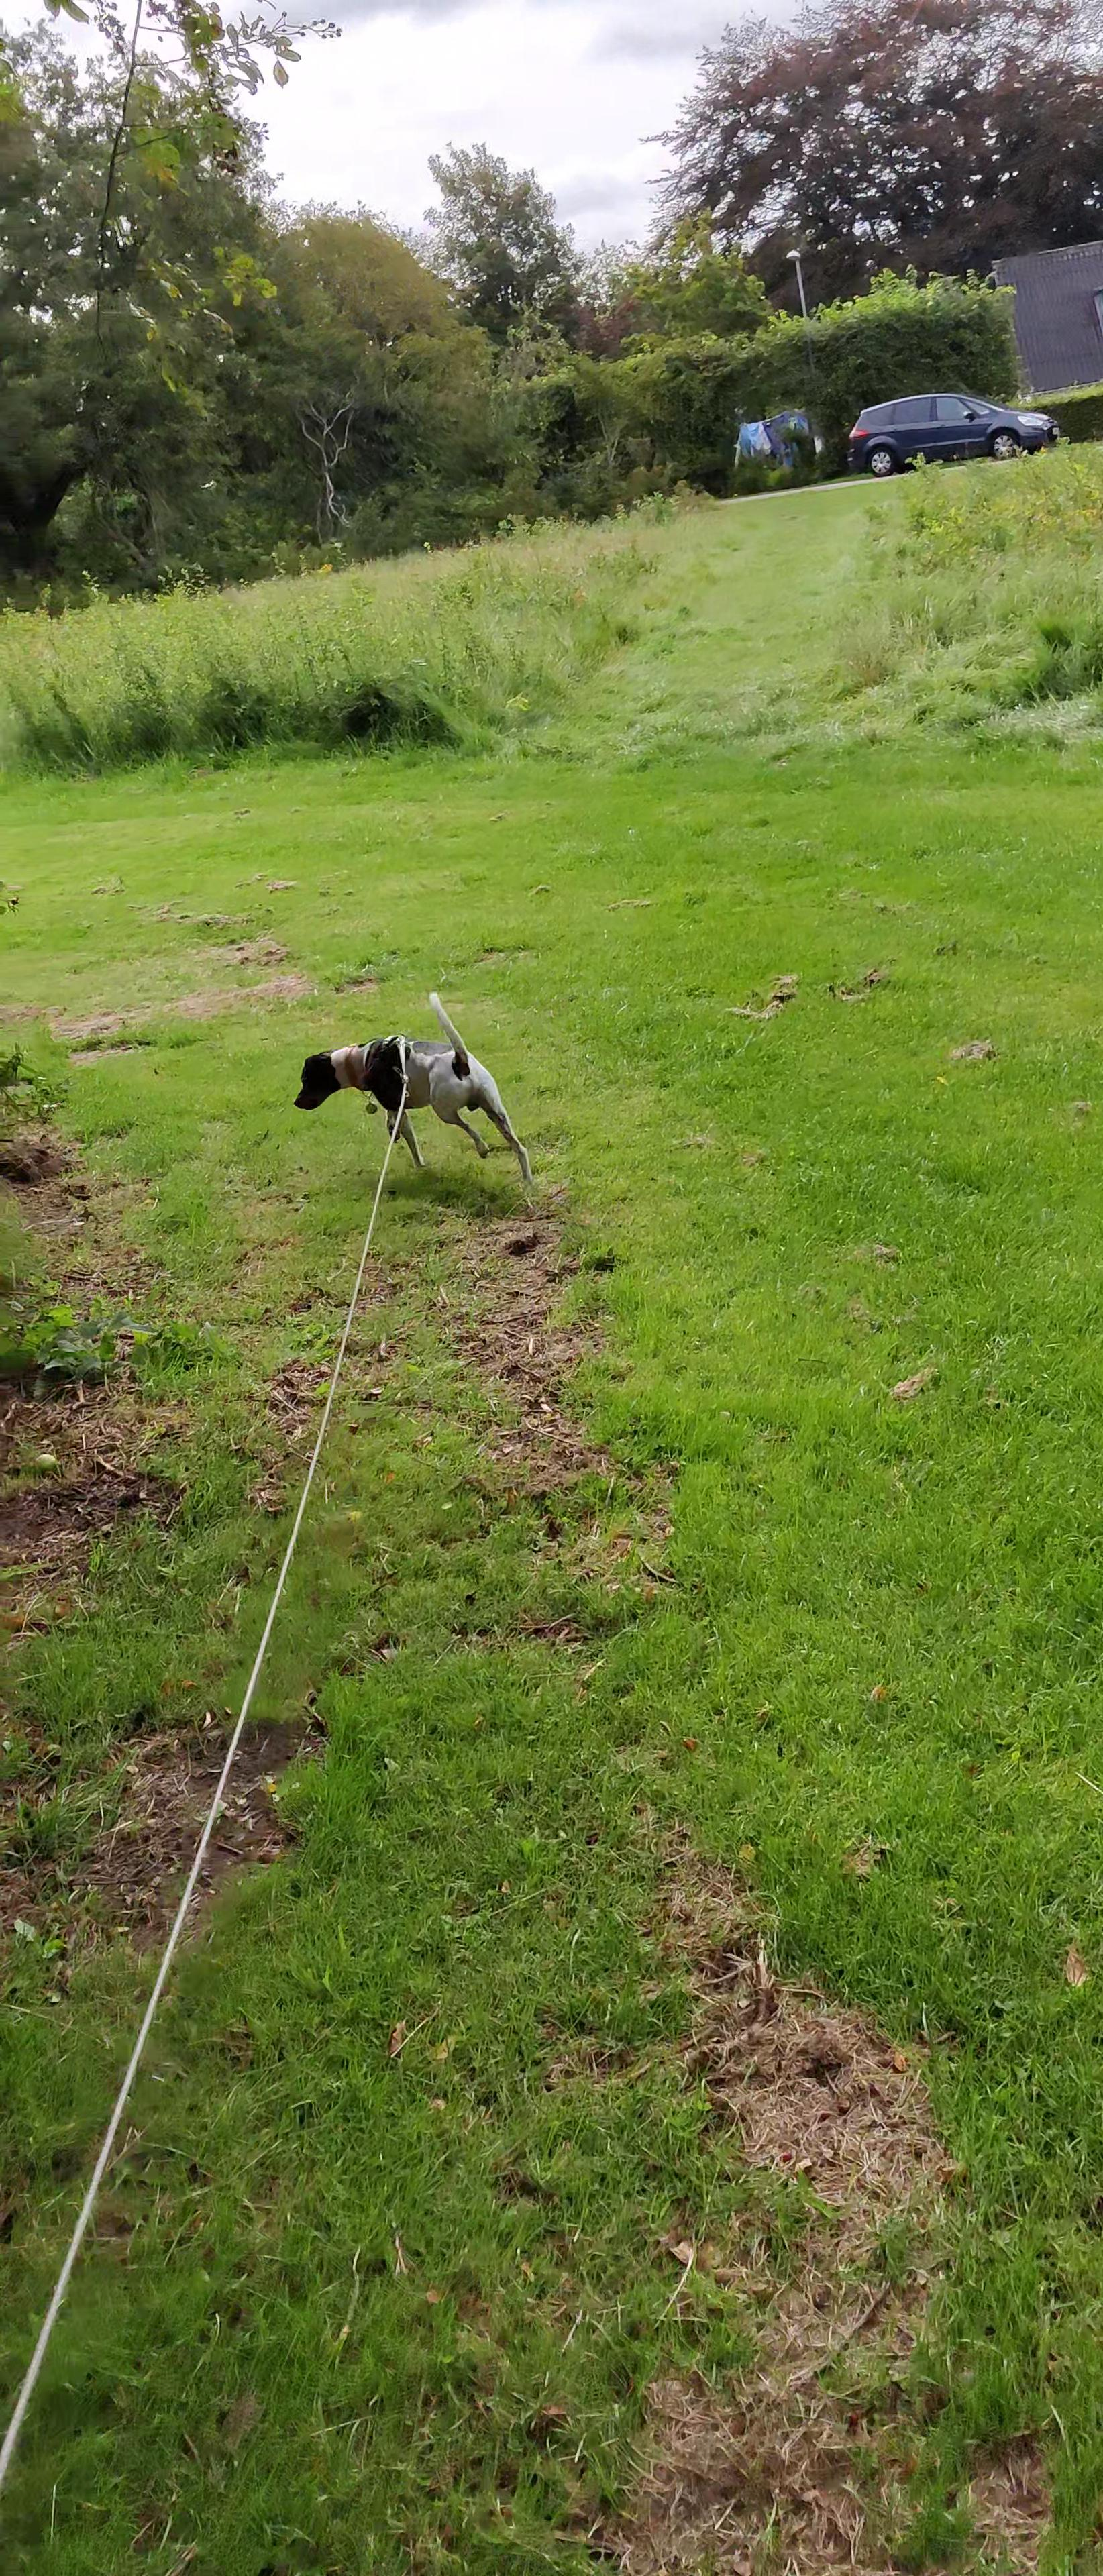Dog: (291, 987, 536, 1183)
